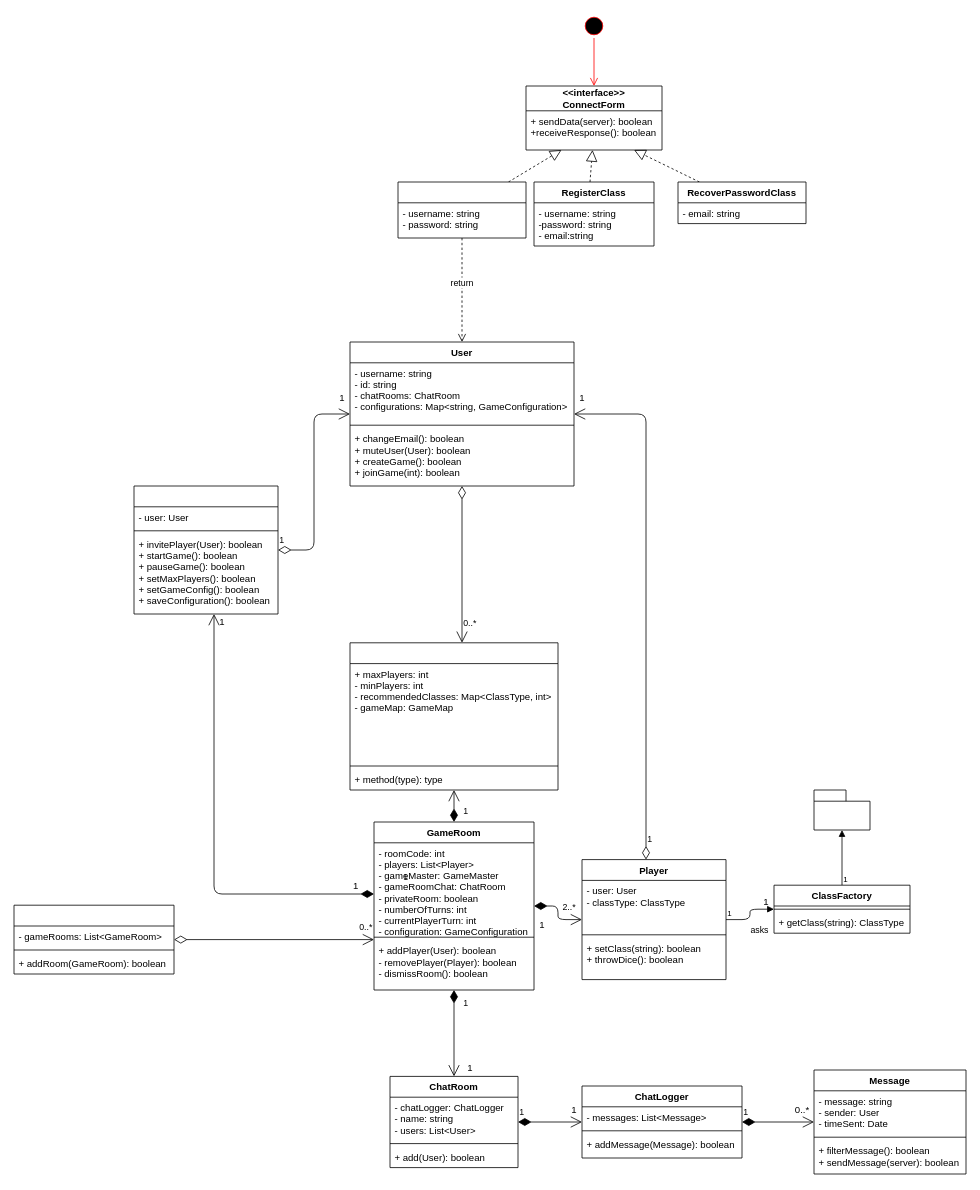
The diagram is 980 pixels wide and 1190 high, and some of its shapes have lost their labels. Here are the shapes that lost their labels. From the top down, the box of each, then its label:
(397, 181, 526, 238): LoginClass
(133, 485, 278, 614): GameMaster
(349, 642, 558, 790): GameConfiguration
(813, 789, 870, 830): ClassTypes
(13, 904, 174, 974): GameRoomManager
